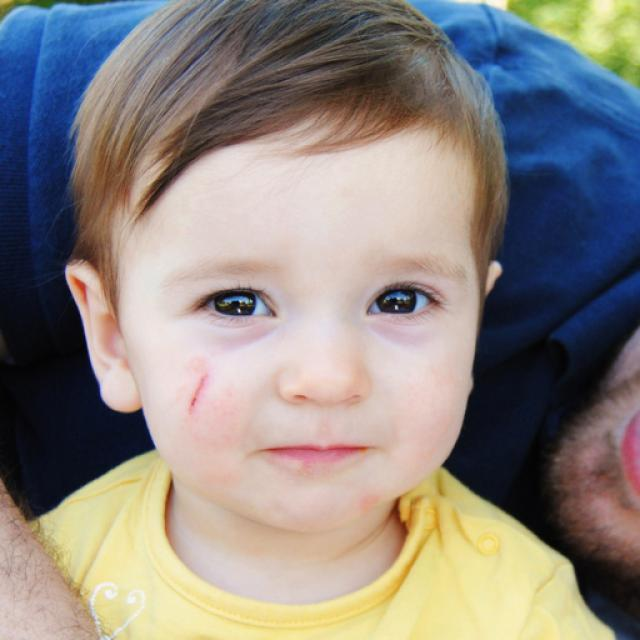0_rostro_limpio: (67, 0, 484, 533)
